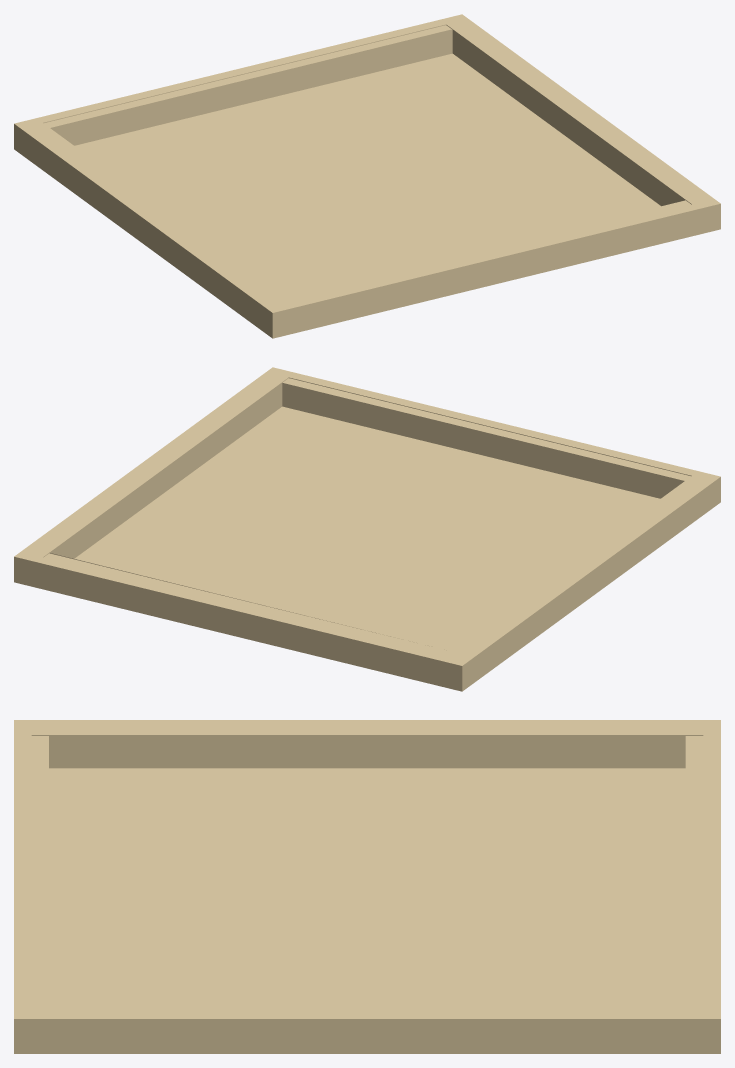
The model's file is InnerCover.fbx.
3 views of the same model, one above another, from view 1: azimuth 30°, elevation 25°; view 2: azimuth 150°, elevation 25°; view 3: azimuth 270°, elevation 25° (orthographic). The views are drawn at different scales.
Parts seen in each view (by area): view 1: InnerCover; view 2: InnerCover; view 3: InnerCover.
Part boxes in pixels (bbox=[...]): InnerCover: bbox=[14, 14, 720, 338]; InnerCover: bbox=[14, 367, 720, 691]; InnerCover: bbox=[14, 720, 720, 1053].
Size of the model in its own units: 100 by 5.48 by 99.98.
